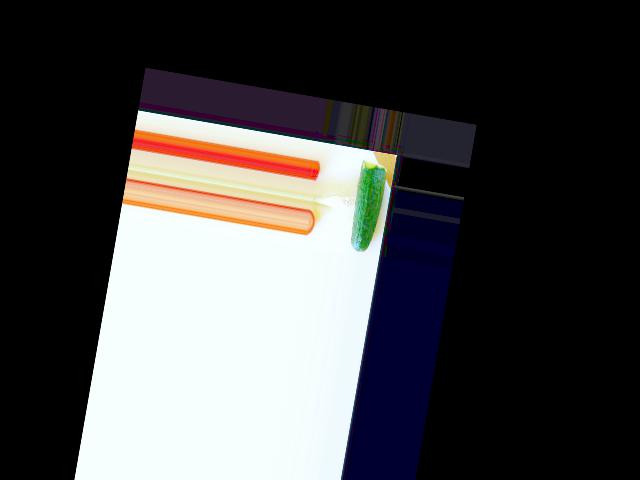cucumber: (347, 160, 389, 255)
